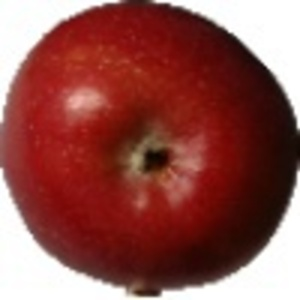maçã braeburn: (1, 1, 300, 292)
